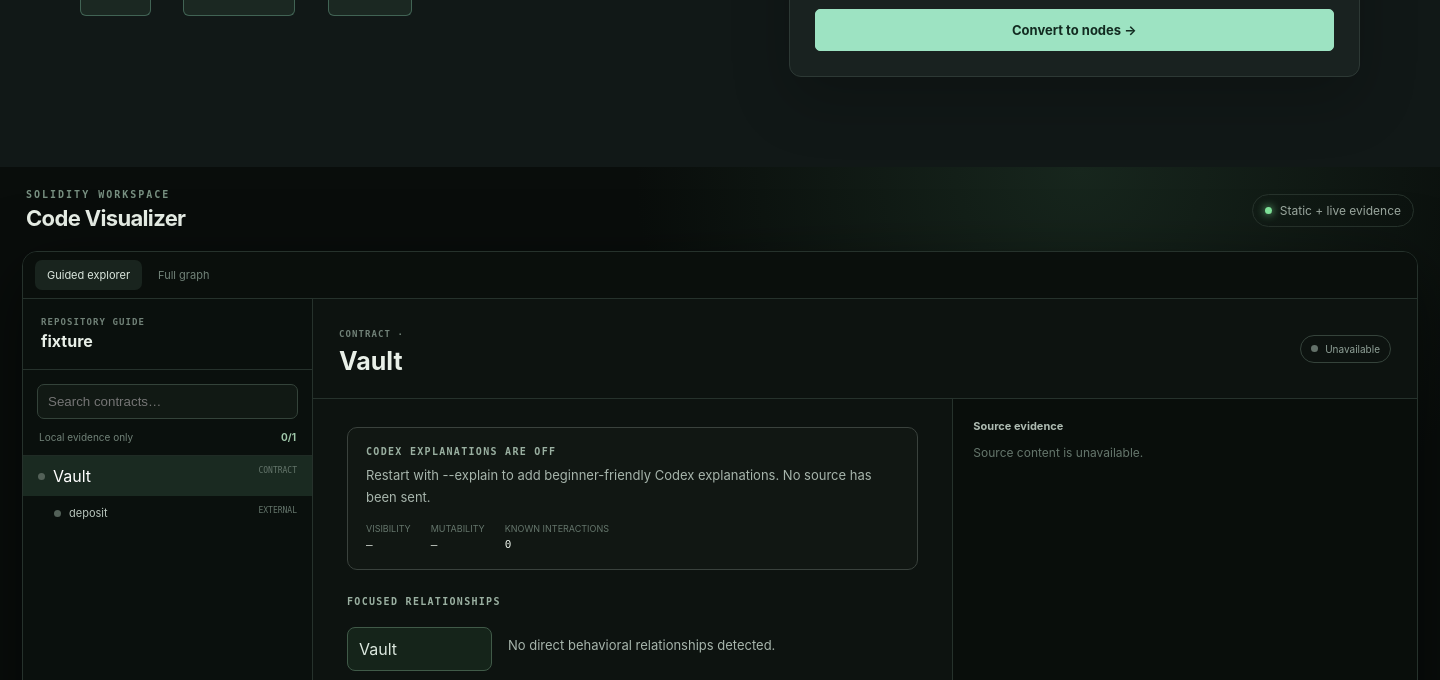
it: repository graph › toggles node and edge kinds independently and clears filters
(page scrolled)
Click the tab "Full graph": (184, 275) [146,260,221,290]
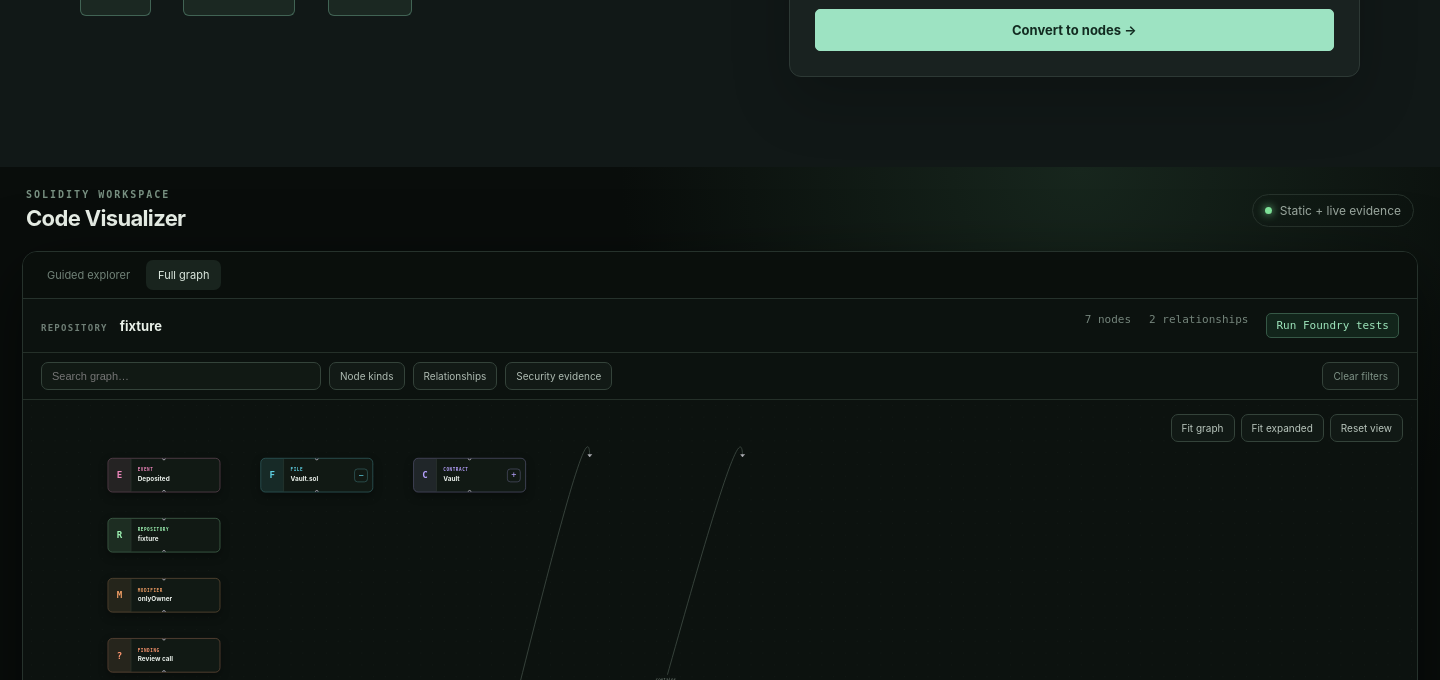
Expected: the text "Vault" is shown, [443,475,460,483]
Click the heading "Node kinds": (367, 376) [329,362,404,390]
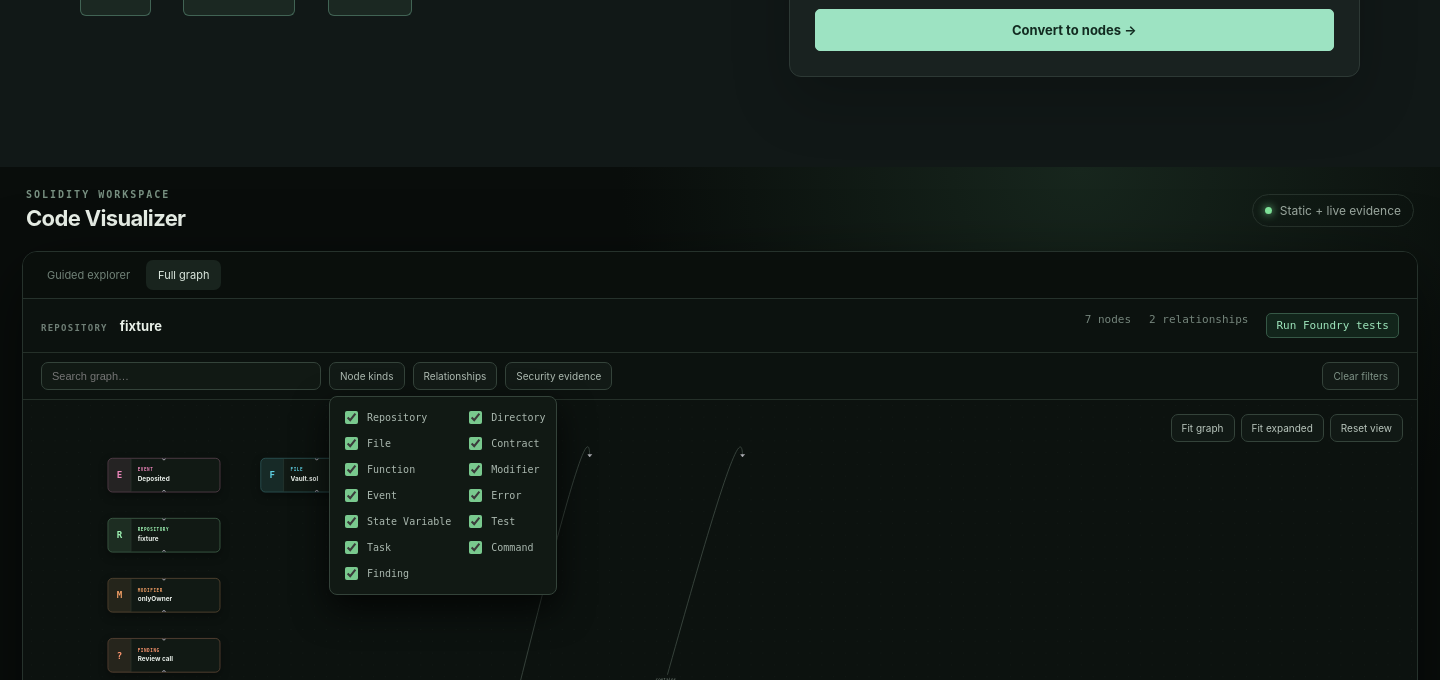
Click the checkbox labelled "finding": (352, 574) [345,567,358,580]
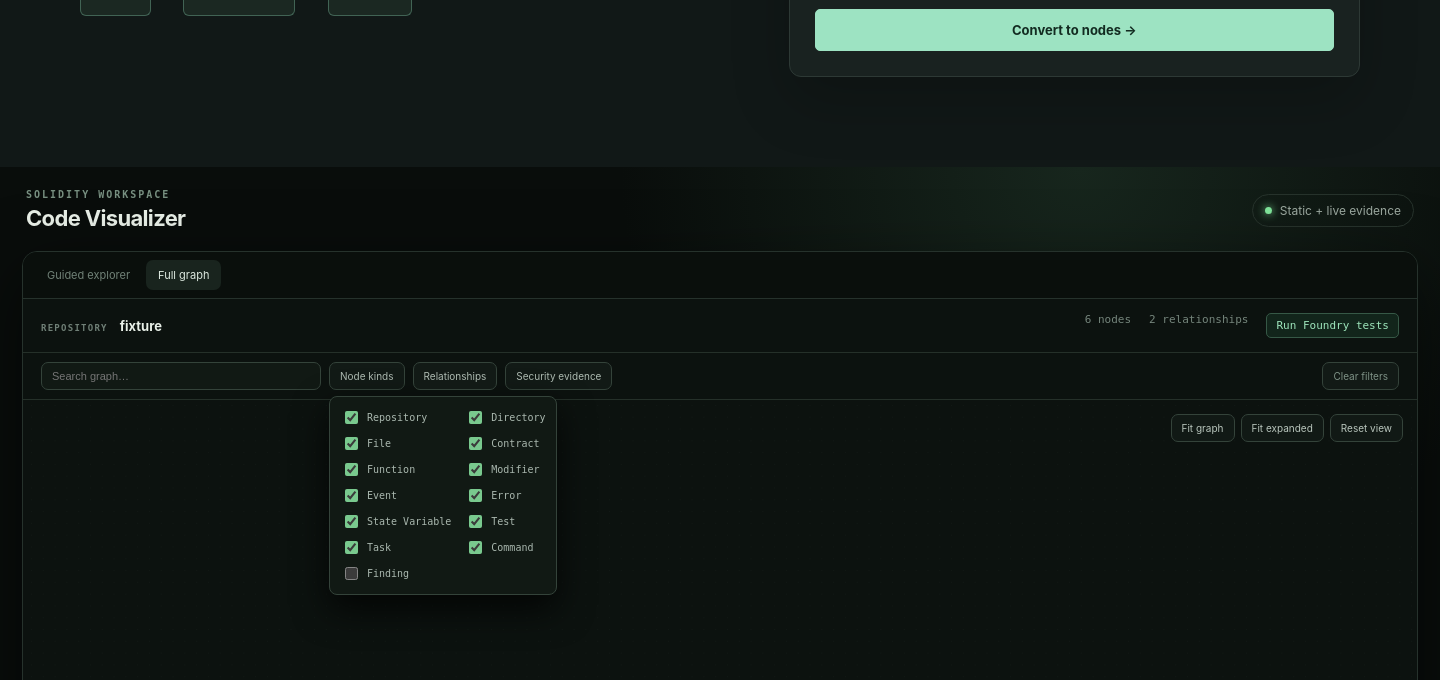
Now the text "Review call" is gone
Click the heading "Relationships": (455, 376) [412,362,497,390]
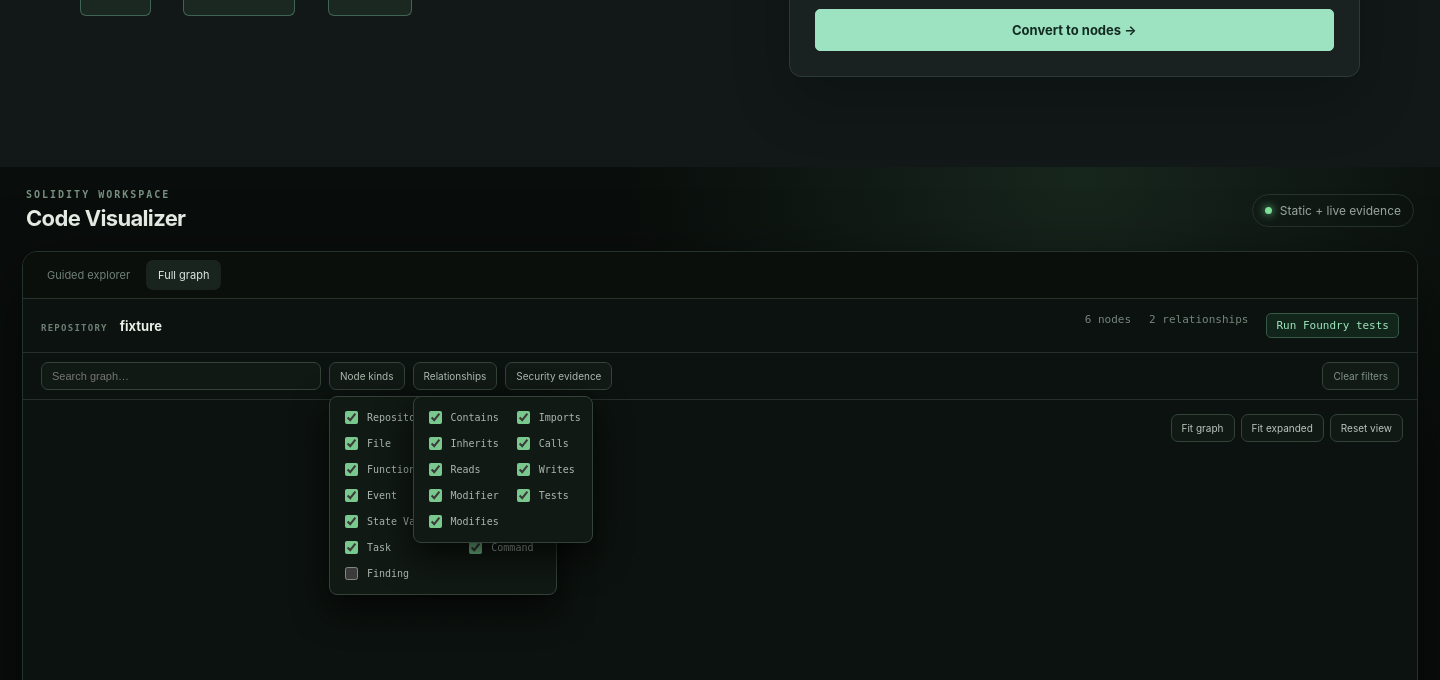
Click the checkbox labelled "contains": (435, 418) [428,411,442,424]
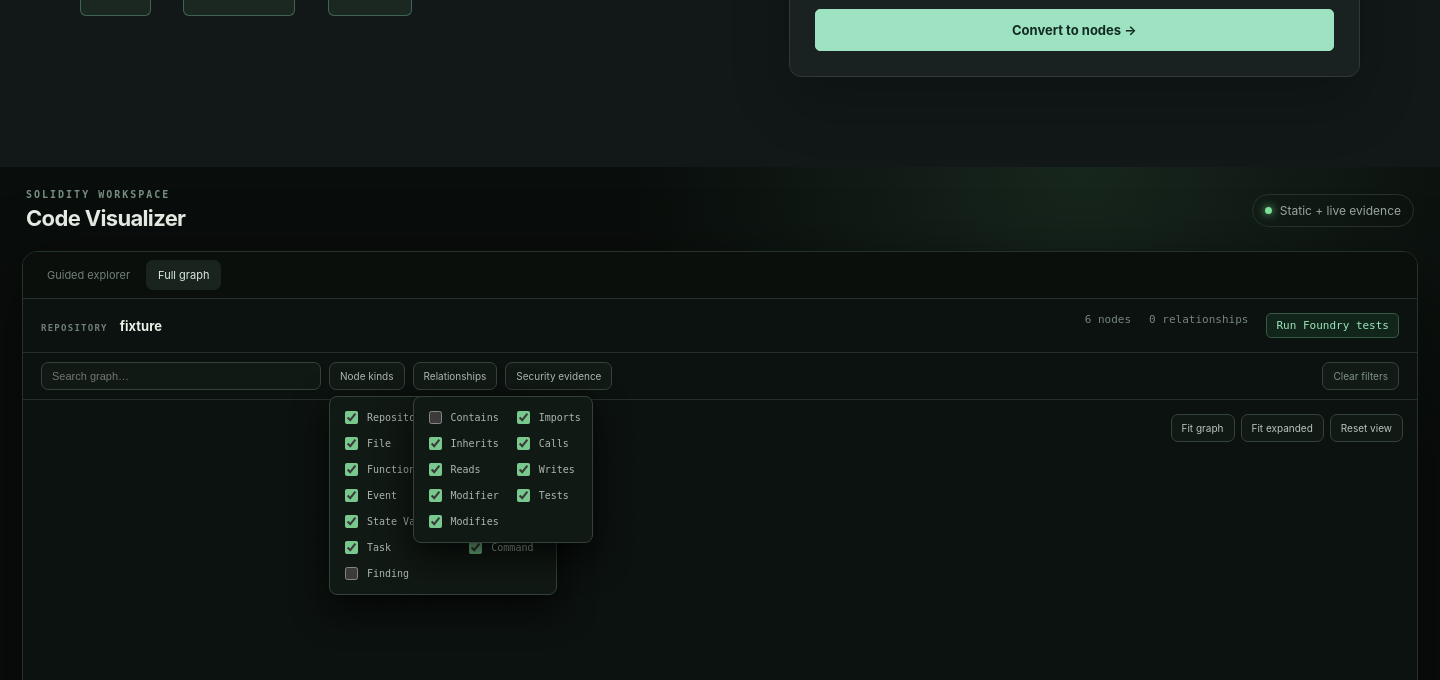
Now the text "0 relationships" is shown, box [1149,313,1248,326]
Click the button "Clear filters": (1361, 376) [1322,362,1399,390]
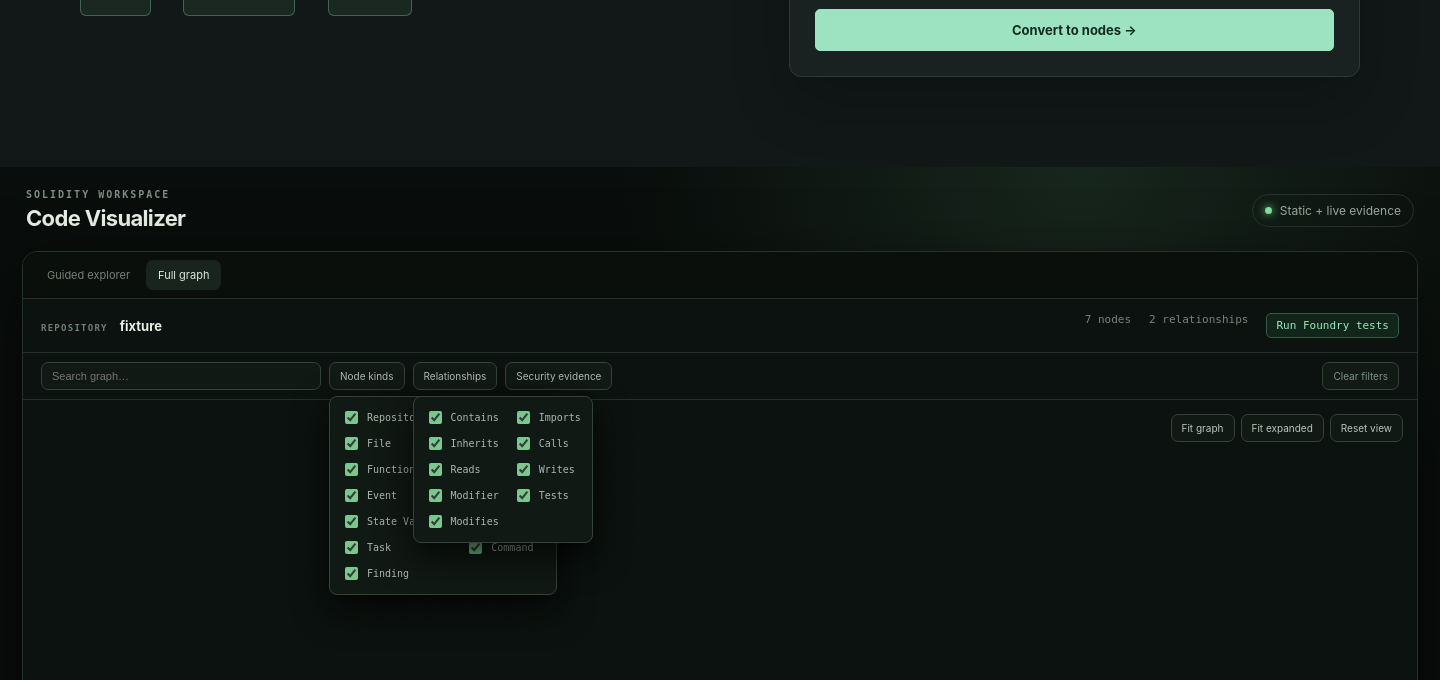
Now the text "2 relationships" is shown, box [1149,313,1248,326]
